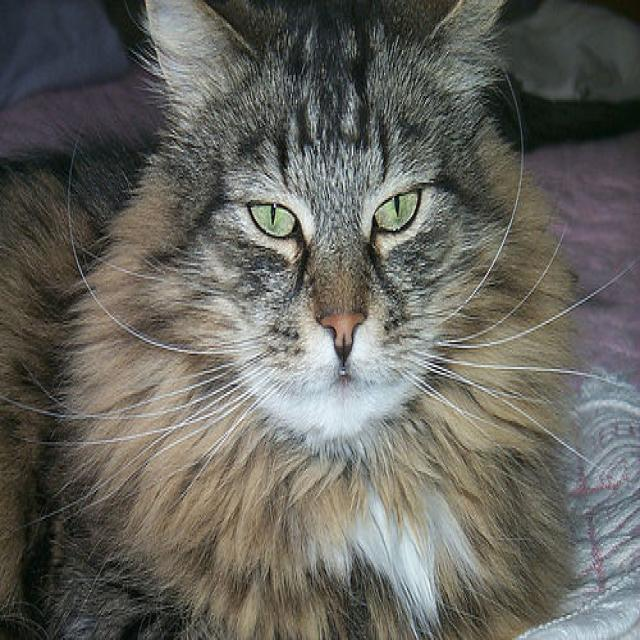left eye: (370, 182, 424, 236)
